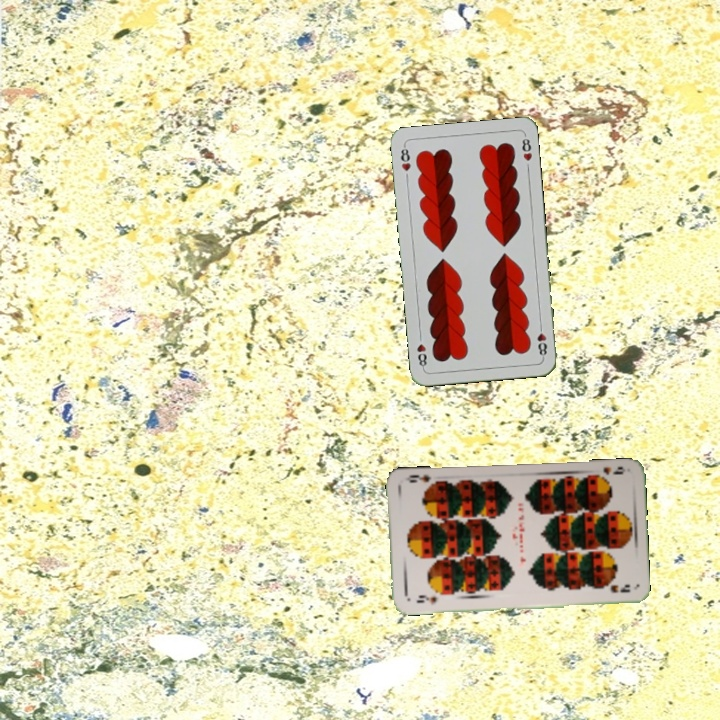H8: (533, 319, 549, 360), (397, 142, 413, 174)
S9: (589, 463, 628, 482), (413, 591, 439, 607)
